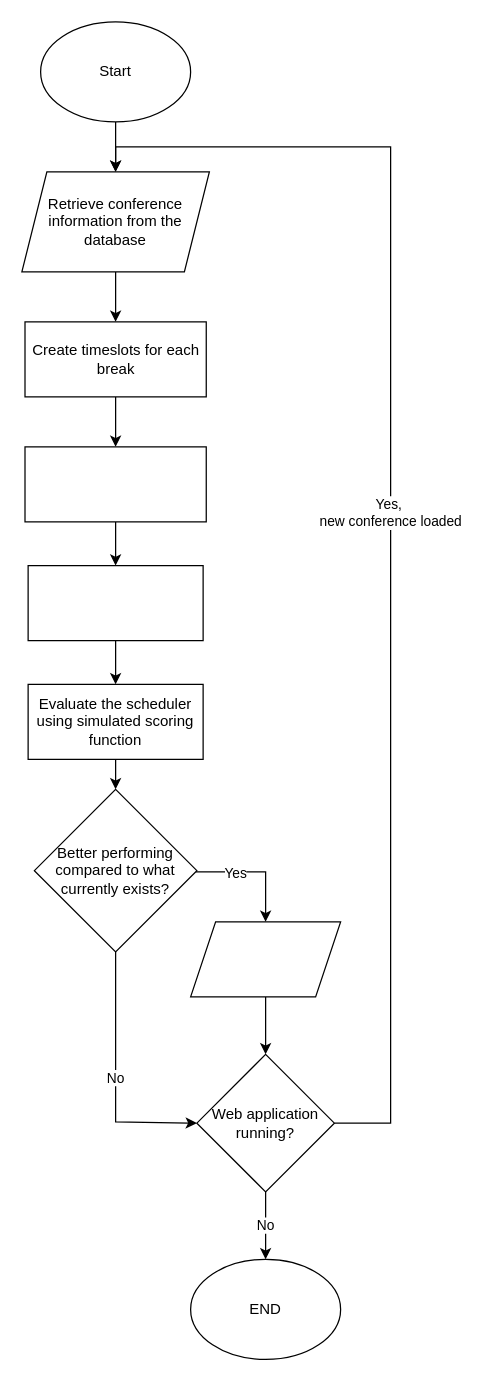
Image size: 484x1381. Some labels were removed from this diagram. The centre of each missing label's shape, as x and y in pixels:
Add breaks and lunch slots: point 115,484
Run the scheduler to fill in the timeslots: point 115,602
Save the new schedule: point 265,959
